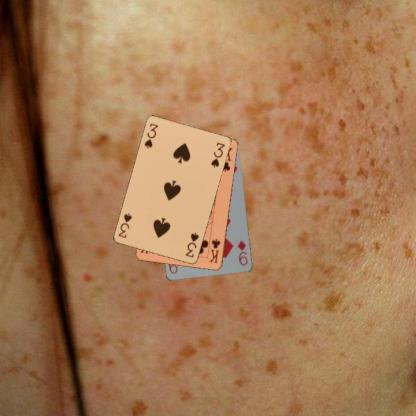3s: (182, 230, 200, 259), (142, 121, 160, 150)
9d: (235, 238, 249, 267)
Kc: (206, 236, 221, 264)
